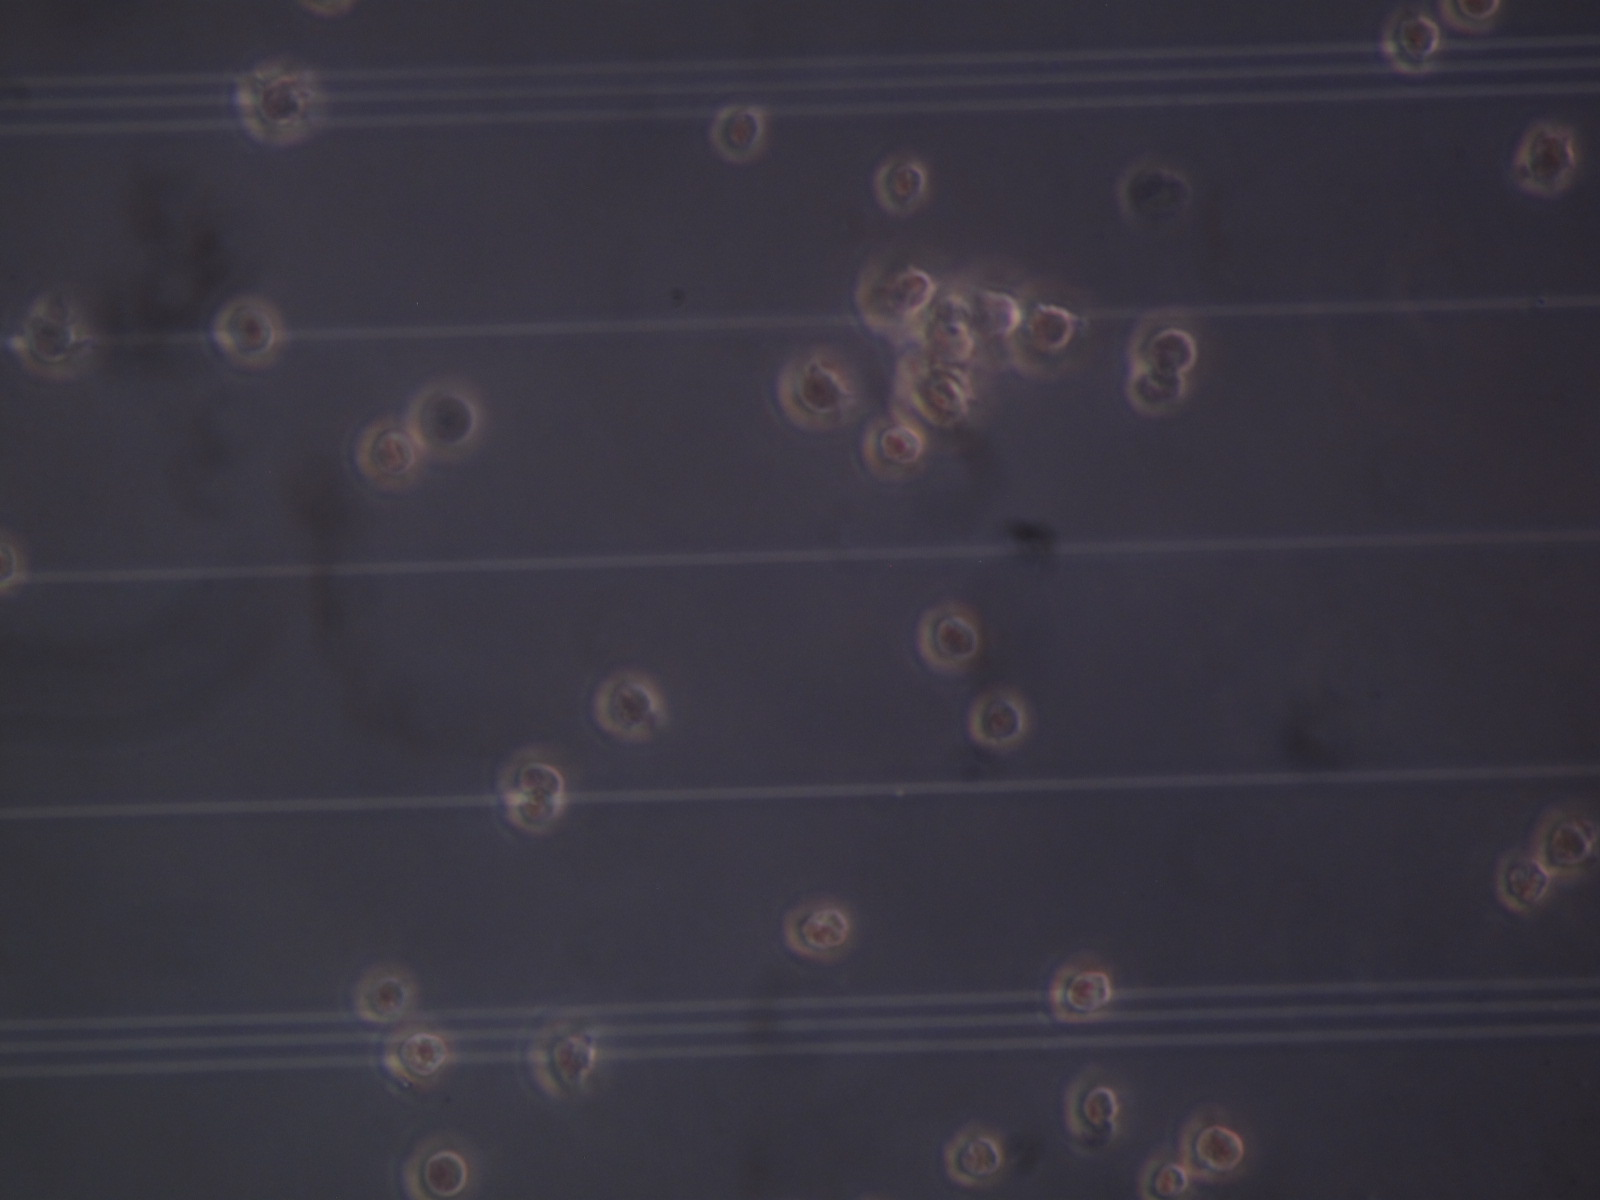hemo: (231, 61, 323, 141), (852, 252, 934, 337), (1015, 286, 1078, 377), (499, 747, 567, 829), (525, 1020, 597, 1097), (775, 355, 850, 427), (593, 668, 665, 742), (896, 371, 968, 442), (14, 311, 89, 376), (353, 420, 421, 490), (401, 1133, 472, 1200), (1179, 1105, 1243, 1180), (916, 603, 979, 677), (408, 384, 480, 449), (213, 297, 277, 368), (382, 1024, 447, 1090), (1129, 313, 1199, 373), (1051, 957, 1112, 1024), (1516, 124, 1574, 194), (1534, 809, 1592, 880), (782, 901, 850, 961), (1383, 6, 1441, 74), (920, 295, 976, 364), (862, 413, 923, 476), (354, 963, 414, 1022), (1065, 1071, 1120, 1136), (944, 1126, 1002, 1186), (711, 103, 767, 163), (966, 693, 1028, 746), (1494, 852, 1550, 909), (873, 158, 927, 213), (969, 289, 1022, 342), (1128, 371, 1189, 415), (1440, 1, 1506, 35), (1140, 1158, 1191, 1200)
